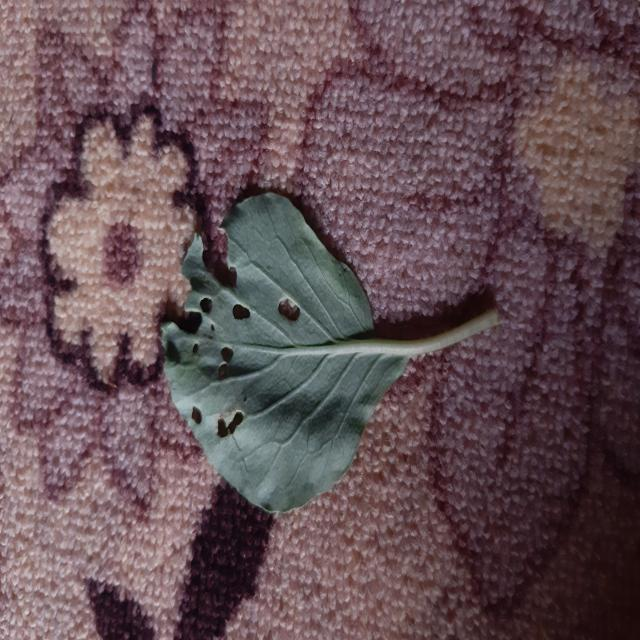Kohlrabi: (161, 193, 499, 513)
